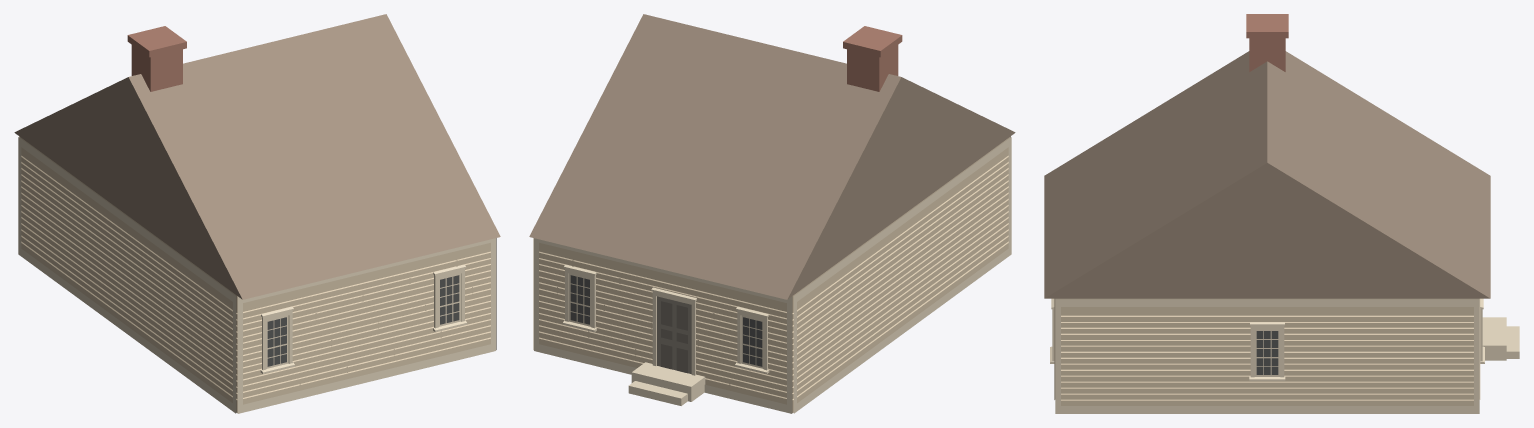
The model's file is recon_1835_blk_washington_clark_d5_01__inferred_1835.glb.
3 views of the same model, side by side, from view 1: azimuth 30°, elevation 25°; view 2: azimuth 150°, elevation 25°; view 3: azimuth 270°, elevation 25° (orthographic). The views are drawn at different scales.
Parts seen in each view (by area): view 1: recon_1835_blk_washington_clark_d5_01__inferred_1835; view 2: recon_1835_blk_washington_clark_d5_01__inferred_1835; view 3: recon_1835_blk_washington_clark_d5_01__inferred_1835.
Part boxes in pixels (x1,y1,x2,y2): recon_1835_blk_washington_clark_d5_01__inferred_1835: (14, 14, 500, 413); recon_1835_blk_washington_clark_d5_01__inferred_1835: (529, 14, 1015, 413); recon_1835_blk_washington_clark_d5_01__inferred_1835: (1044, 14, 1519, 413).
Bounding box in the file's own units: 6.85 × 7.15 × 10.95.
